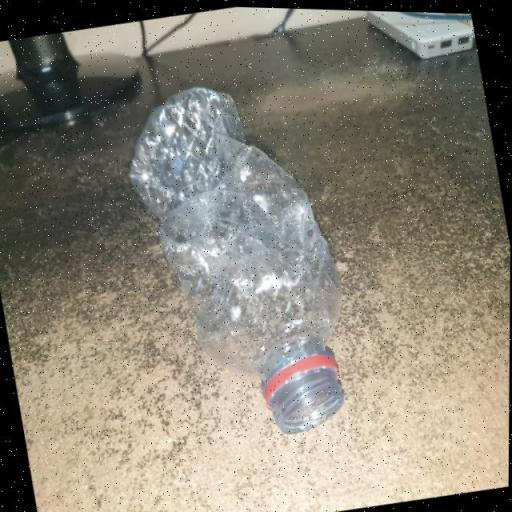plastic: (116, 66, 370, 459)
